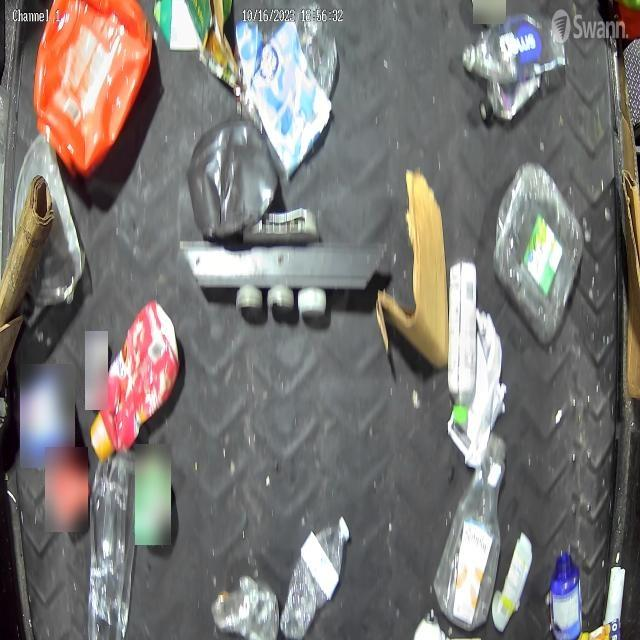non_white_jug: (32, 0, 156, 176), (90, 298, 180, 464)
plastic_bottle: (433, 432, 509, 632), (280, 514, 351, 640), (461, 12, 568, 78), (478, 78, 542, 124)
